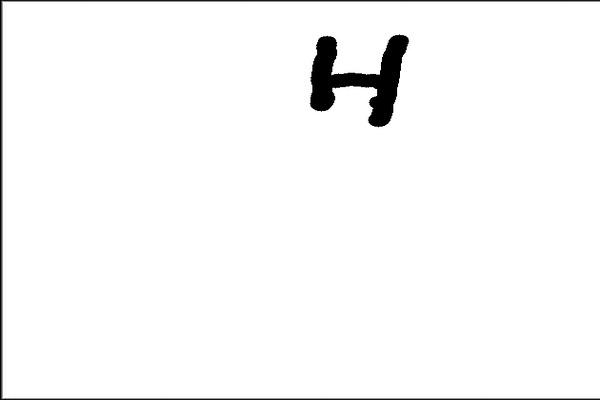H: (302, 30, 414, 130)
